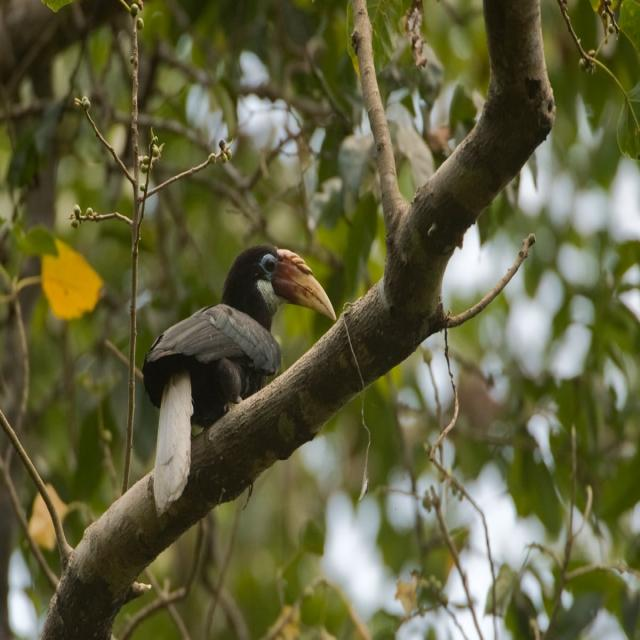Hornbill: (146, 235, 338, 511)
